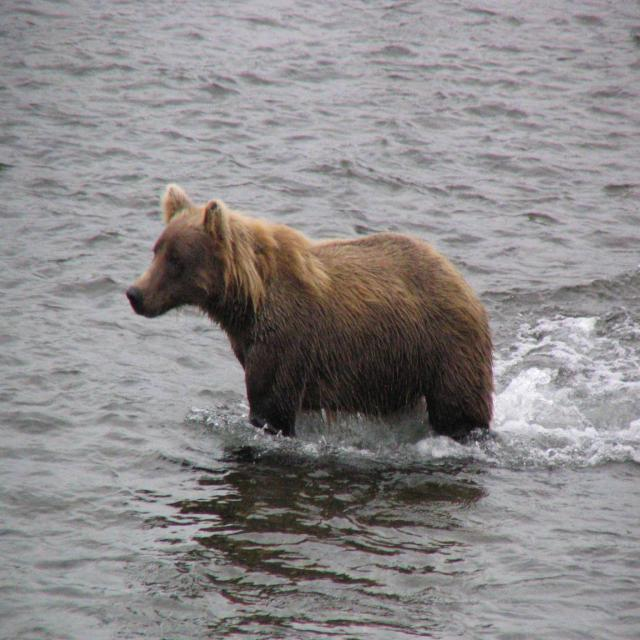bear face: (126, 184, 490, 441)
